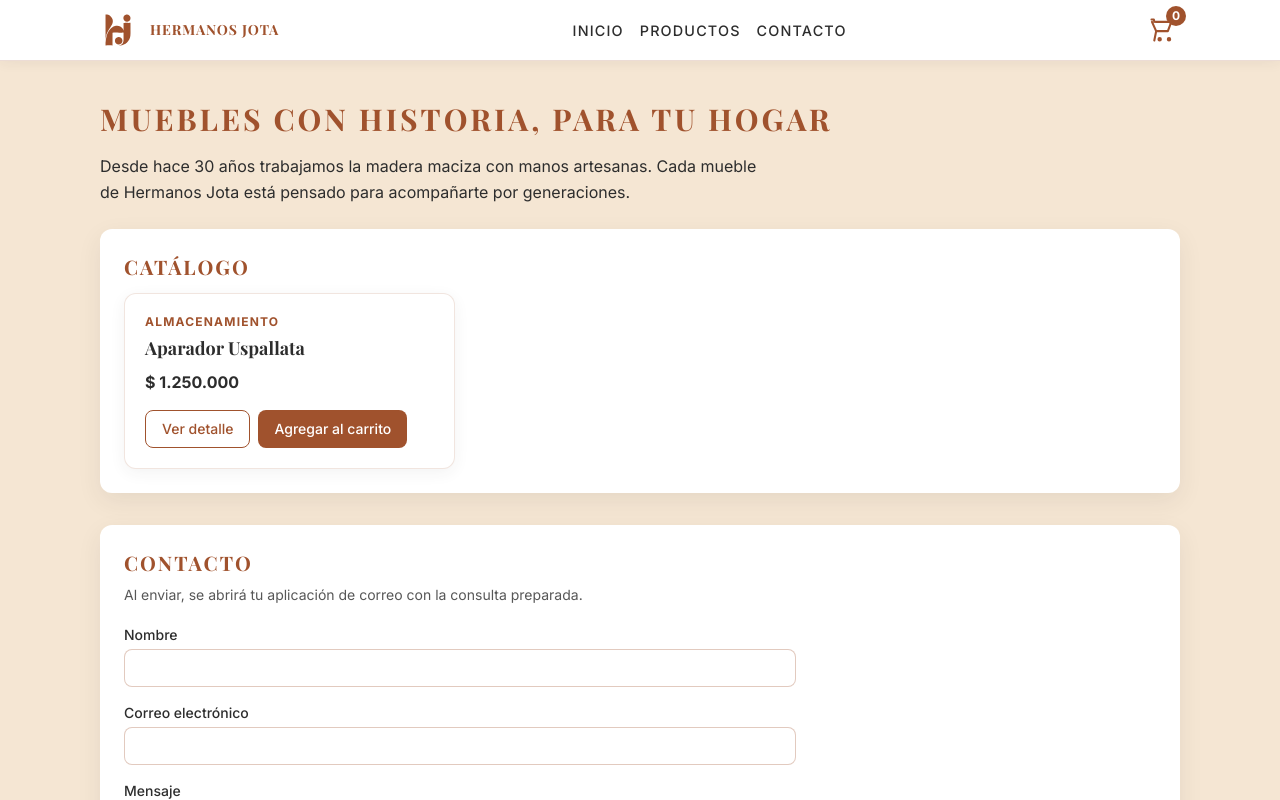
adds a product from the API to the cart
This screenshot has width=1280, height=800.
Click the button "Agregar al carrito" at (333, 429), box 258,410 -> 407,448
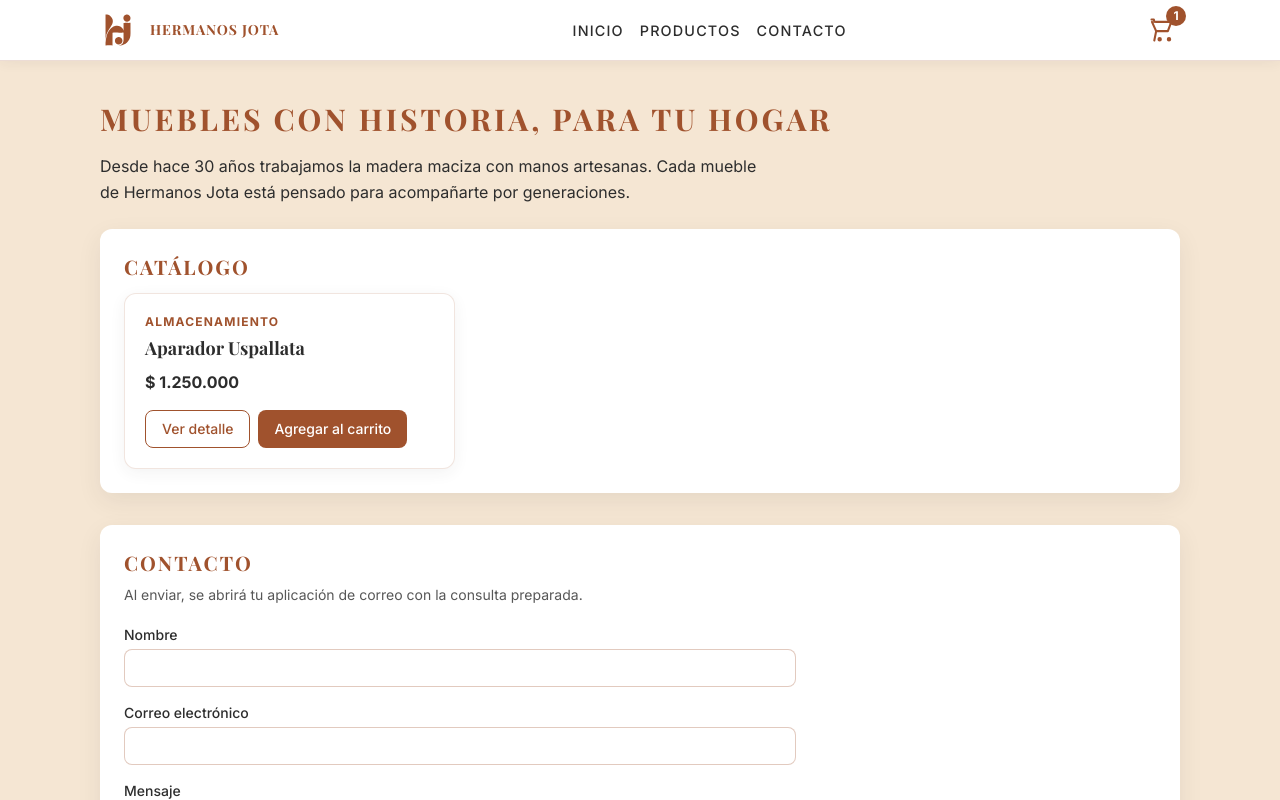
Check: the link named "Carrito de compras, 1 productos" is shown, box 1140,8 -> 1184,52
